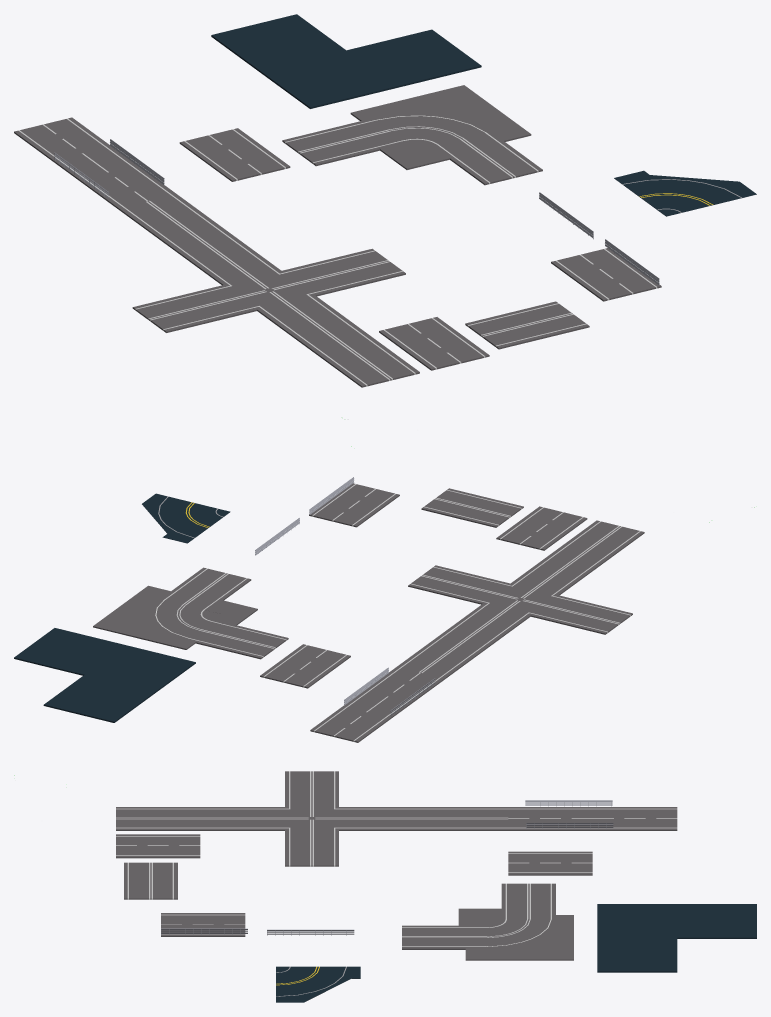
3 renders of one model, top to bottom at view 1: azimuth 30°, elevation 25°; view 2: azimuth 150°, elevation 25°; view 3: azimuth 270°, elevation 25°, orthographic. The views are drawn at different scales.
Parts seen in each view (by area): view 1: NegativePart, Union (×2), Part (×3); view 2: NegativePart, Union (×2), Part (×3); view 3: NegativePart, Union (×2), Part (×3).
Boxes of the visible parts, x1=… form: NegativePart: x1=211, y1=14, x2=481, y2=108; Union (×2): x1=364, y1=104, x2=756, y2=216; Part (×3): x1=350, y1=85, x2=531, y2=169; NegativePart: x1=14, y1=628, x2=195, y2=722; Union (×2): x1=133, y1=493, x2=230, y2=645; Part (×3): x1=93, y1=585, x2=257, y2=649; NegativePart: x1=597, y1=904, x2=756, y2=972; Union (×2): x1=276, y1=919, x2=571, y2=1002; Part (×3): x1=458, y1=908, x2=573, y2=960.
Size of what is drawn, in the model's own units: 413 by 14.19 by 563.
